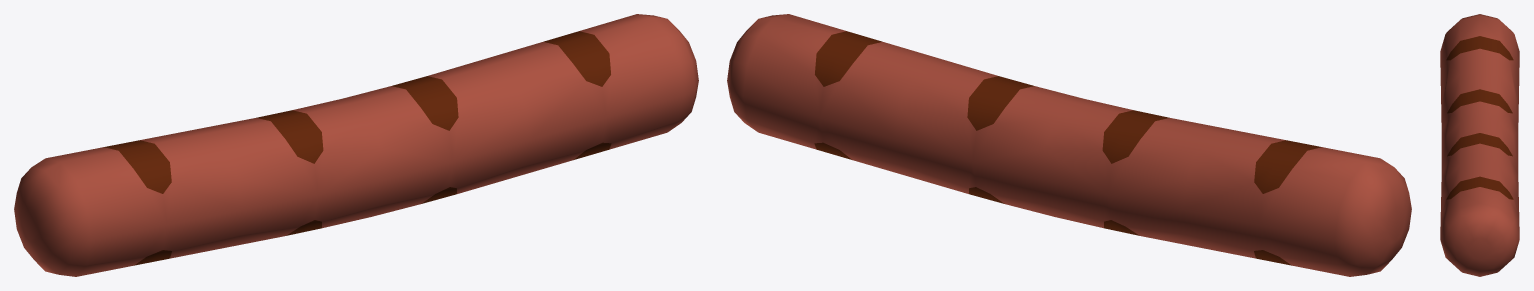
Rendered from Sausage_gril.002.fbx.
3 views of the same model, side by side, from view 1: azimuth 30°, elevation 25°; view 2: azimuth 150°, elevation 25°; view 3: azimuth 270°, elevation 25° (orthographic). The views are drawn at different scales.
Parts seen in each view (by area): view 1: Sausage_gril.002; view 2: Sausage_gril.002; view 3: Sausage_gril.002.
Boxes of the visible parts, box(x1,y1,x2,y2) form: Sausage_gril.002: box(14, 14, 698, 276); Sausage_gril.002: box(727, 14, 1411, 276); Sausage_gril.002: box(1440, 14, 1519, 276).
Size of the model in its own units: 160 by 25.88 by 28.84.
